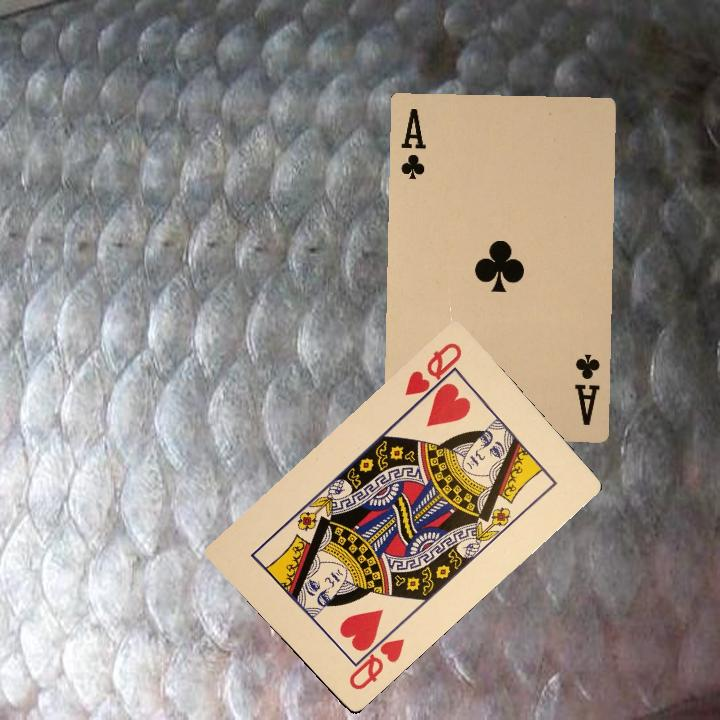Ac: (570, 349, 603, 428), (397, 104, 429, 182)
Qh: (400, 338, 465, 410), (345, 624, 408, 693)
